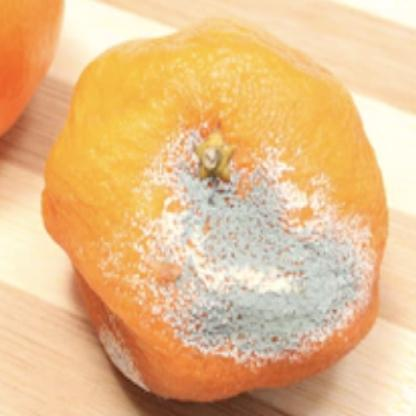rotten: (45, 20, 386, 402)
